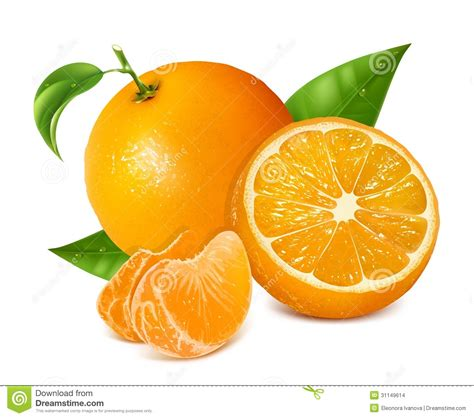orange: (79, 60, 293, 251)
